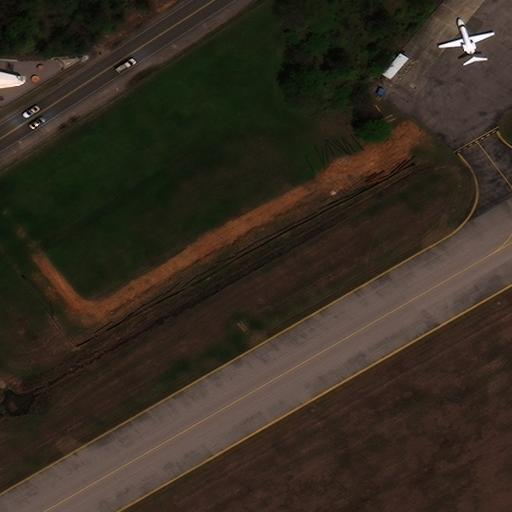Medium Civil Transport: (438, 17, 493, 62)
